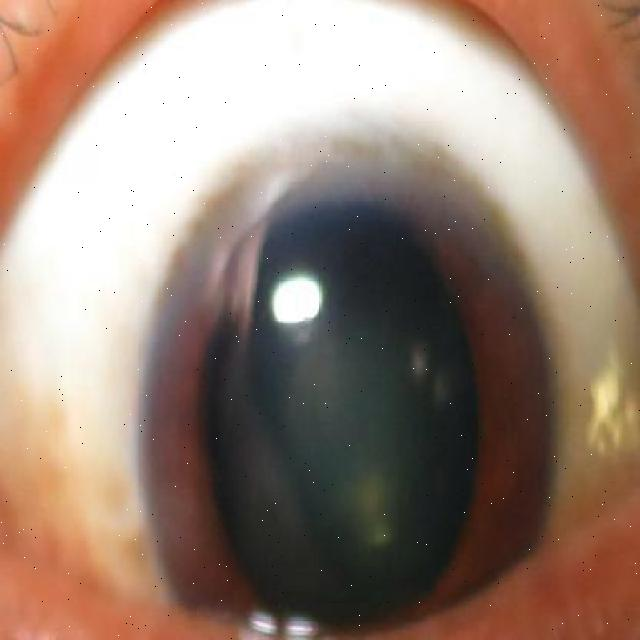Cataract: (142, 120, 558, 640)
